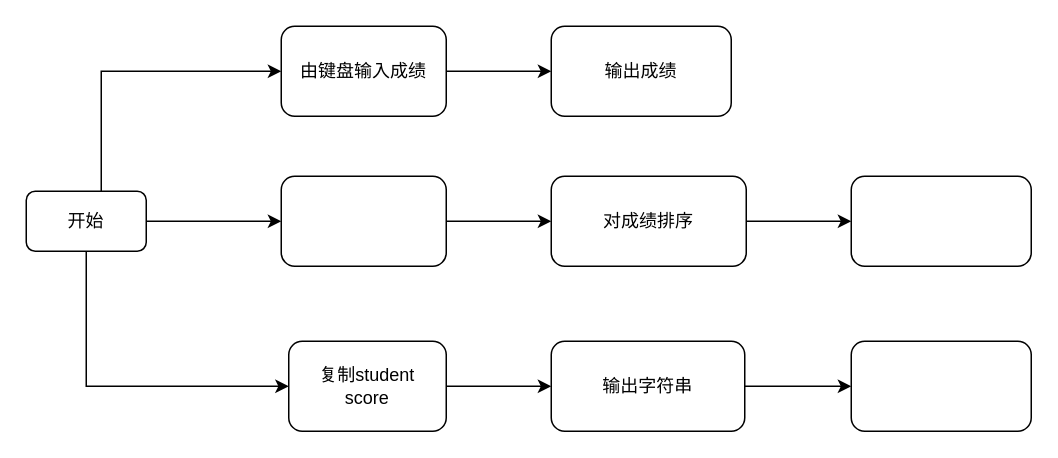
The diagram is 1058 pixels wide and 458 high, and some of its shapes have lost their labels. The centre of each missing label's shape, as x and y in pixels:
"比较成绩的高低" belongs at (363,220).
"结束" belongs at (940,385).
"输出排序好的成绩" belongs at (940,220).
